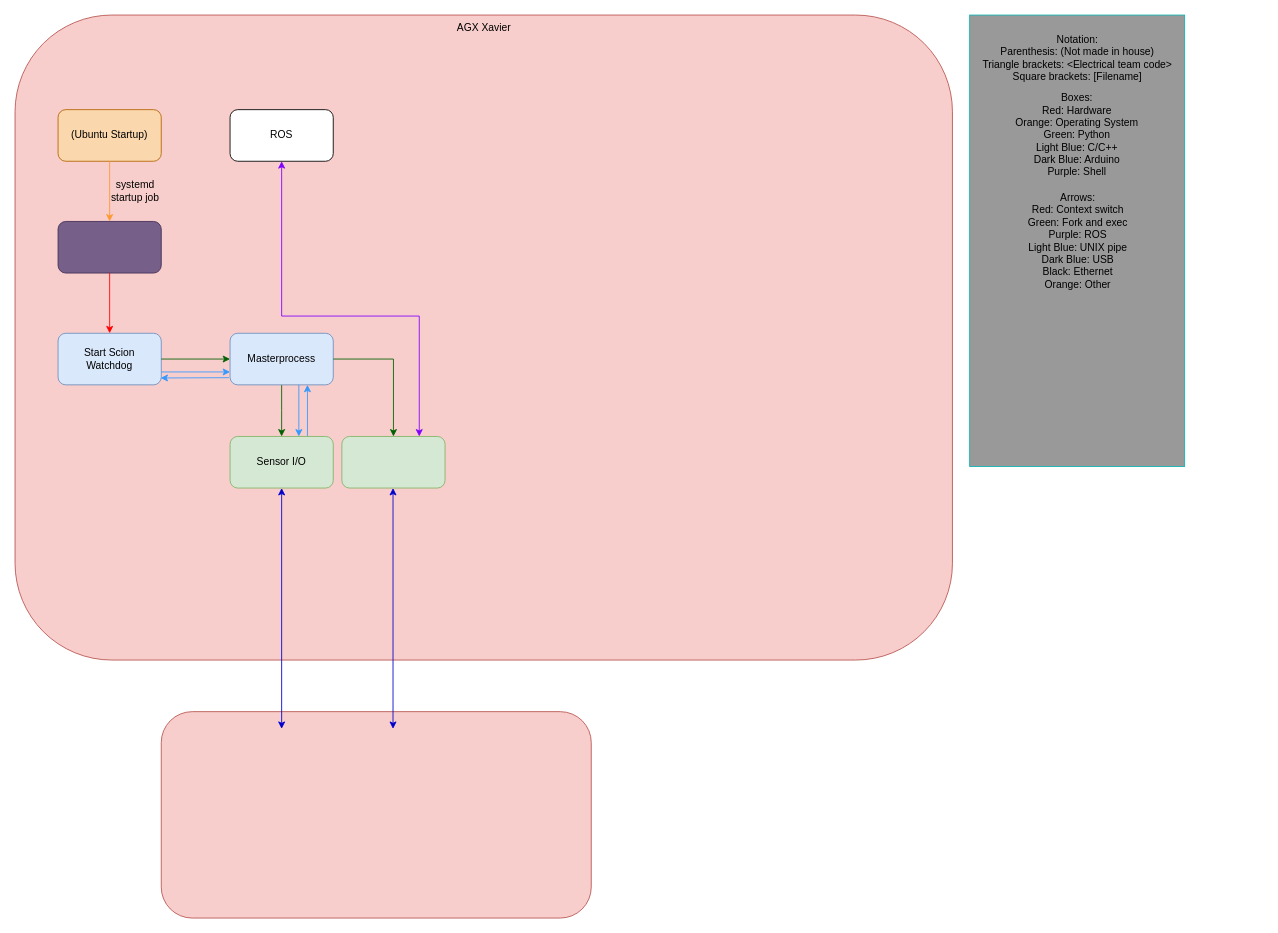
This 1278x933 diagram has some shape labels left out. Each missing label, with the box of its shape:
Bootstap: (57, 221, 161, 273)
Camera Driver [comms/ video_server.py]: (341, 436, 445, 488)
USB Hub: (160, 711, 591, 918)
